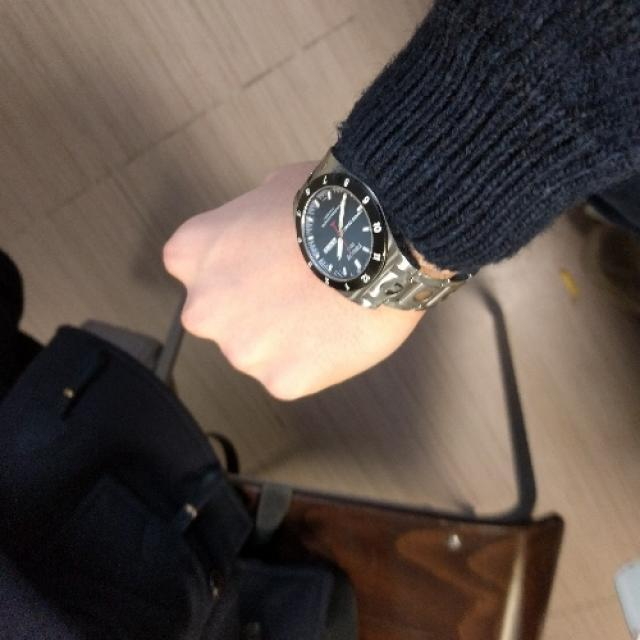rock: (160, 161, 423, 400)
